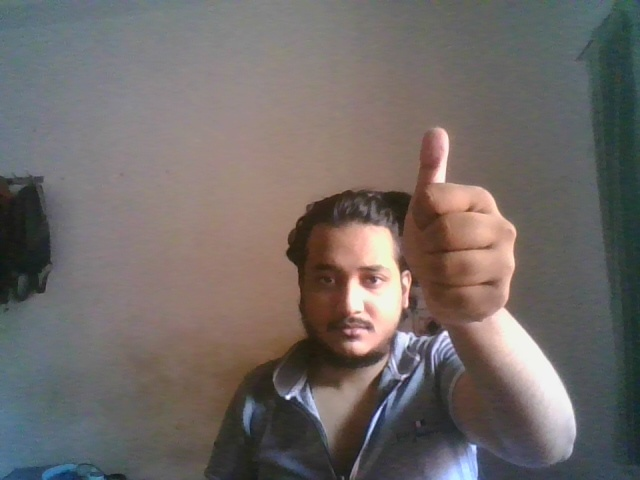ThumbsUp: (401, 127, 518, 324)
